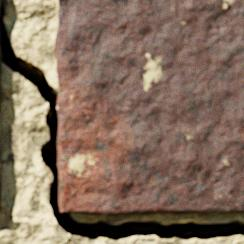brick: (55, 0, 243, 214), (0, 134, 2, 209), (0, 51, 1, 115), (0, 0, 1, 12)
crack: (0, 0, 243, 242)
